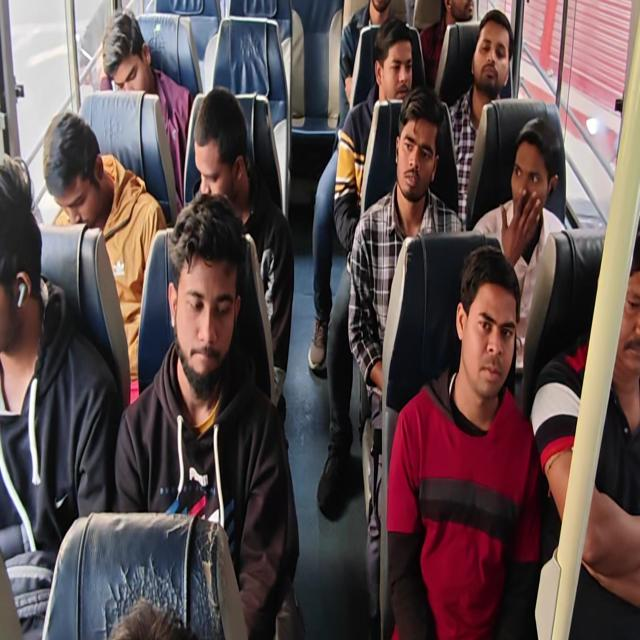person: (1, 2, 638, 638), (113, 192, 304, 638), (347, 85, 464, 637), (386, 244, 544, 638), (0, 157, 122, 638), (530, 218, 640, 638), (308, 14, 414, 377), (43, 112, 167, 404), (192, 85, 294, 427), (471, 116, 567, 369), (101, 10, 192, 208), (448, 9, 514, 226), (337, 0, 410, 128), (419, 0, 474, 90), (107, 598, 198, 638), (538, 0, 558, 77)
